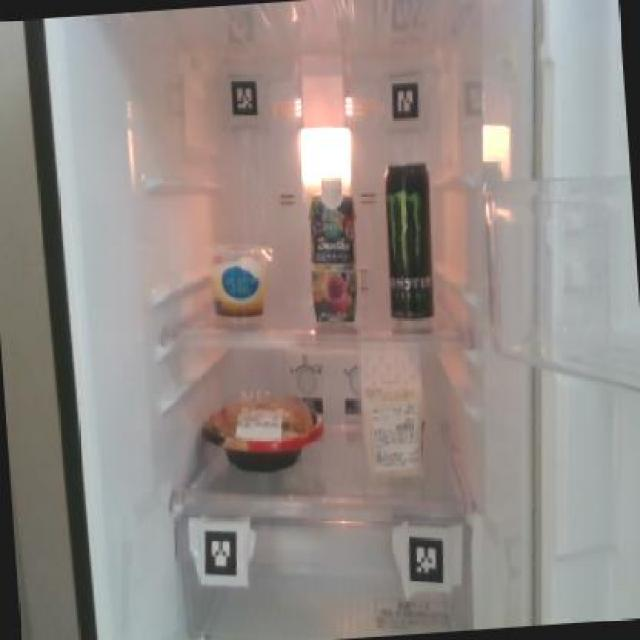bento: (201, 384, 327, 473)
energy_drink: (379, 160, 438, 322)
pudding: (205, 236, 278, 322)
sandwich: (356, 338, 432, 478)
smoothie: (303, 174, 363, 324)
